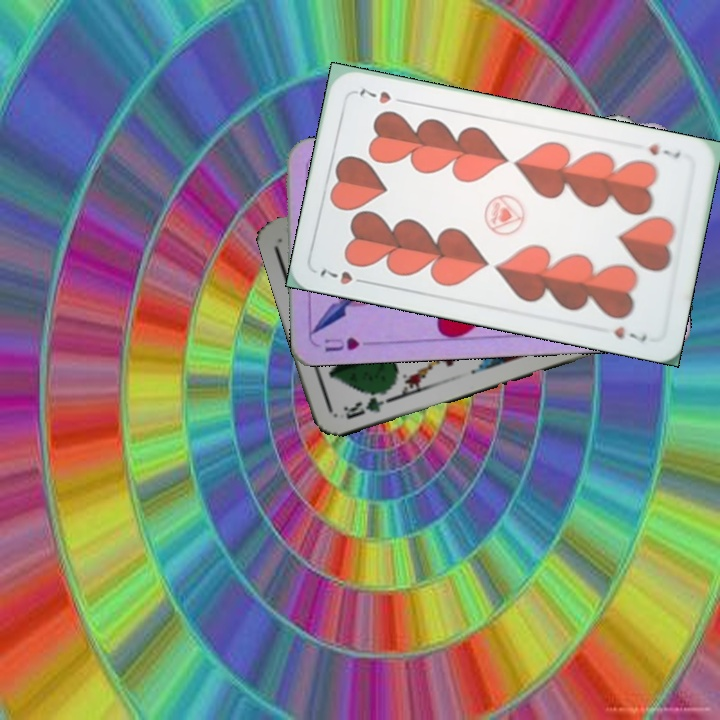GK: (339, 386, 394, 422)
H7: (315, 265, 373, 287), (644, 139, 683, 162)
HU: (320, 333, 363, 355)
